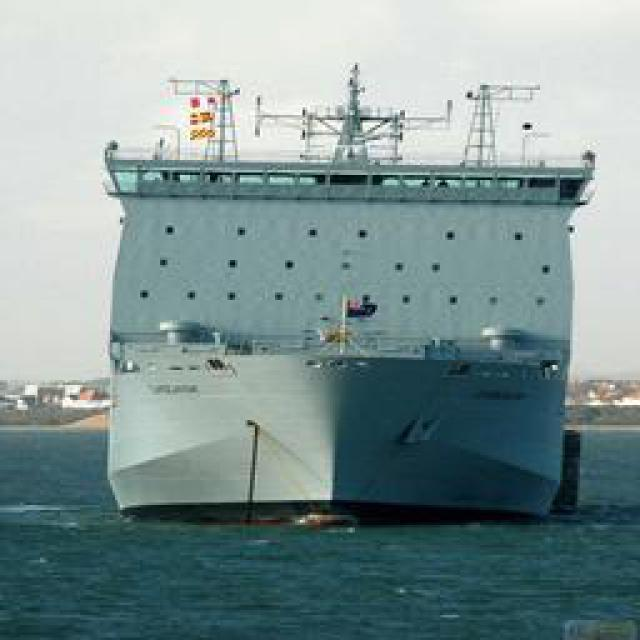Ship: (99, 111, 579, 529)
